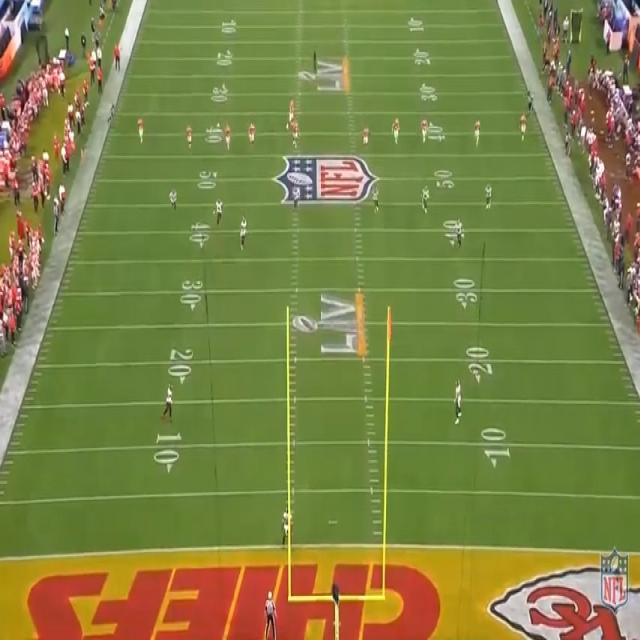players: (447, 215, 468, 259), (414, 175, 433, 219), (161, 379, 179, 419), (212, 189, 228, 230), (452, 378, 466, 424), (222, 120, 239, 157), (236, 208, 249, 252), (134, 108, 147, 149), (185, 119, 198, 159), (165, 181, 181, 213), (281, 500, 292, 542), (483, 180, 496, 213), (470, 116, 486, 142), (288, 121, 302, 149), (520, 111, 530, 150), (360, 122, 373, 152), (390, 112, 402, 144), (282, 97, 296, 124), (373, 178, 381, 222), (247, 119, 257, 151), (421, 116, 432, 143)
